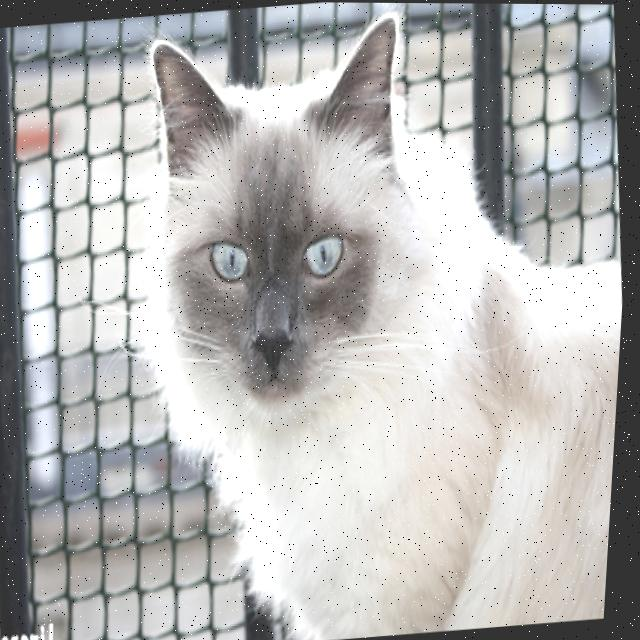Birman: (108, 1, 640, 640)
